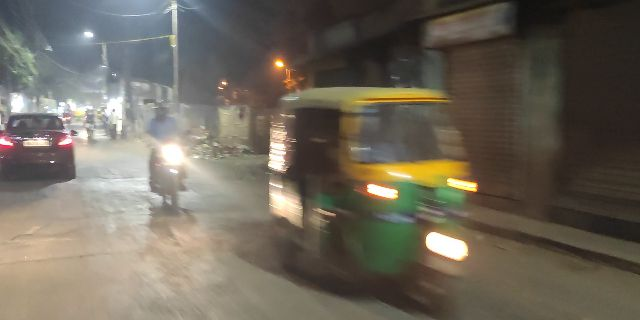Autorickshaw: (271, 87, 486, 301)
Car: (4, 116, 78, 185)
Motorbike: (136, 98, 190, 219)
